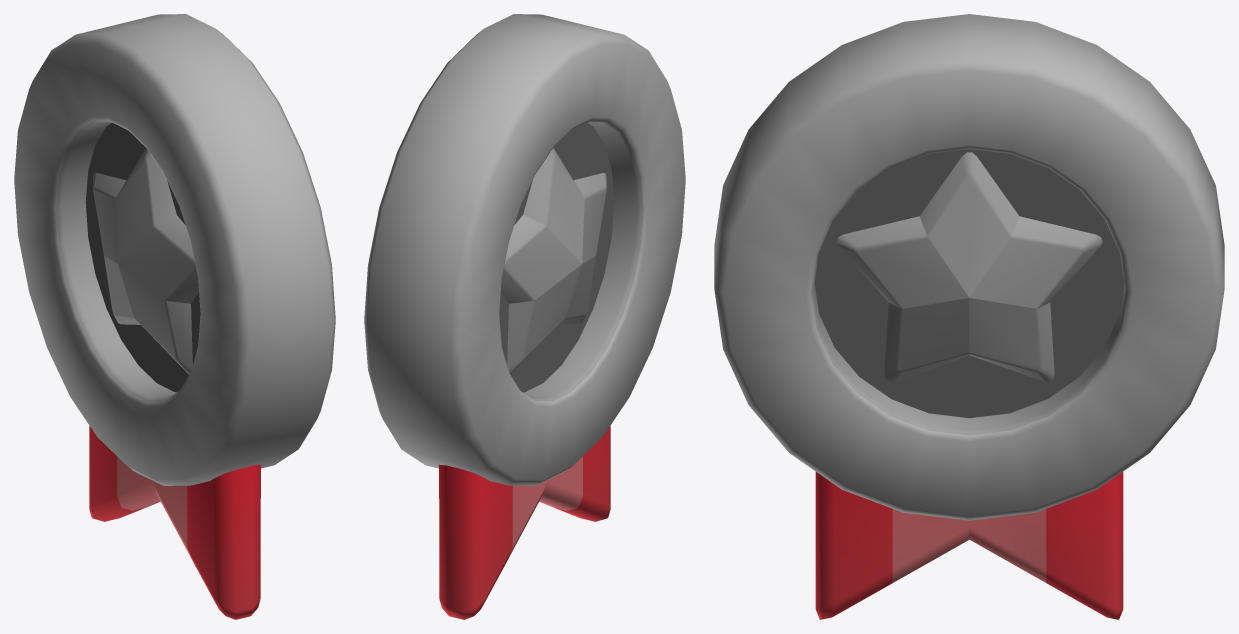
Rendered from Coin_V4_00.fbx.
3 views of the same model, side by side, from view 1: azimuth 30°, elevation 25°; view 2: azimuth 150°, elevation 25°; view 3: azimuth 270°, elevation 25° (orthographic). The views are drawn at different scales.
Visible parts, largest first — view 1: Coin_V4_00; view 2: Coin_V4_00; view 3: Coin_V4_00.
Part boxes in pixels (box(x1,y1,x2,y2)): Coin_V4_00: box(14, 14, 335, 619); Coin_V4_00: box(364, 14, 685, 619); Coin_V4_00: box(714, 14, 1224, 619).
Bounding box in the file's own units: 12.19 × 53.92 × 43.
